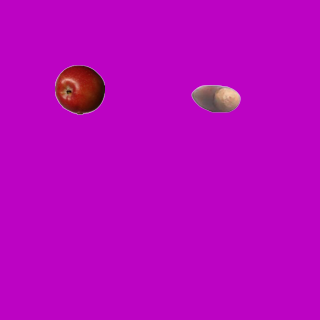Apple Braeburn: (54, 64, 104, 114)
Hazelnut: (190, 73, 240, 123)
